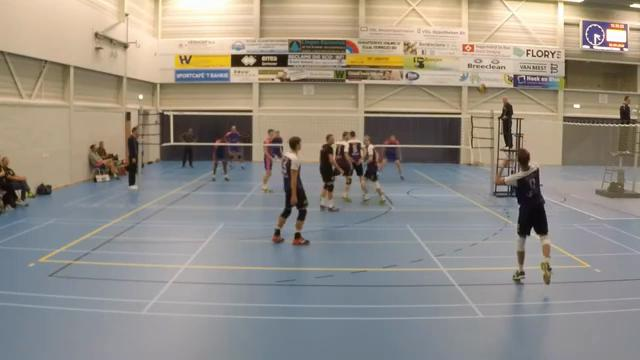Player: (272, 137, 308, 245), (319, 134, 342, 211), (347, 131, 367, 200), (335, 131, 352, 200), (382, 135, 403, 179), (262, 129, 273, 192), (212, 137, 228, 180), (271, 130, 283, 158), (229, 146, 243, 168), (364, 184, 365, 192)
Serve: (489, 145, 563, 287)
ball: (476, 82, 487, 94)
